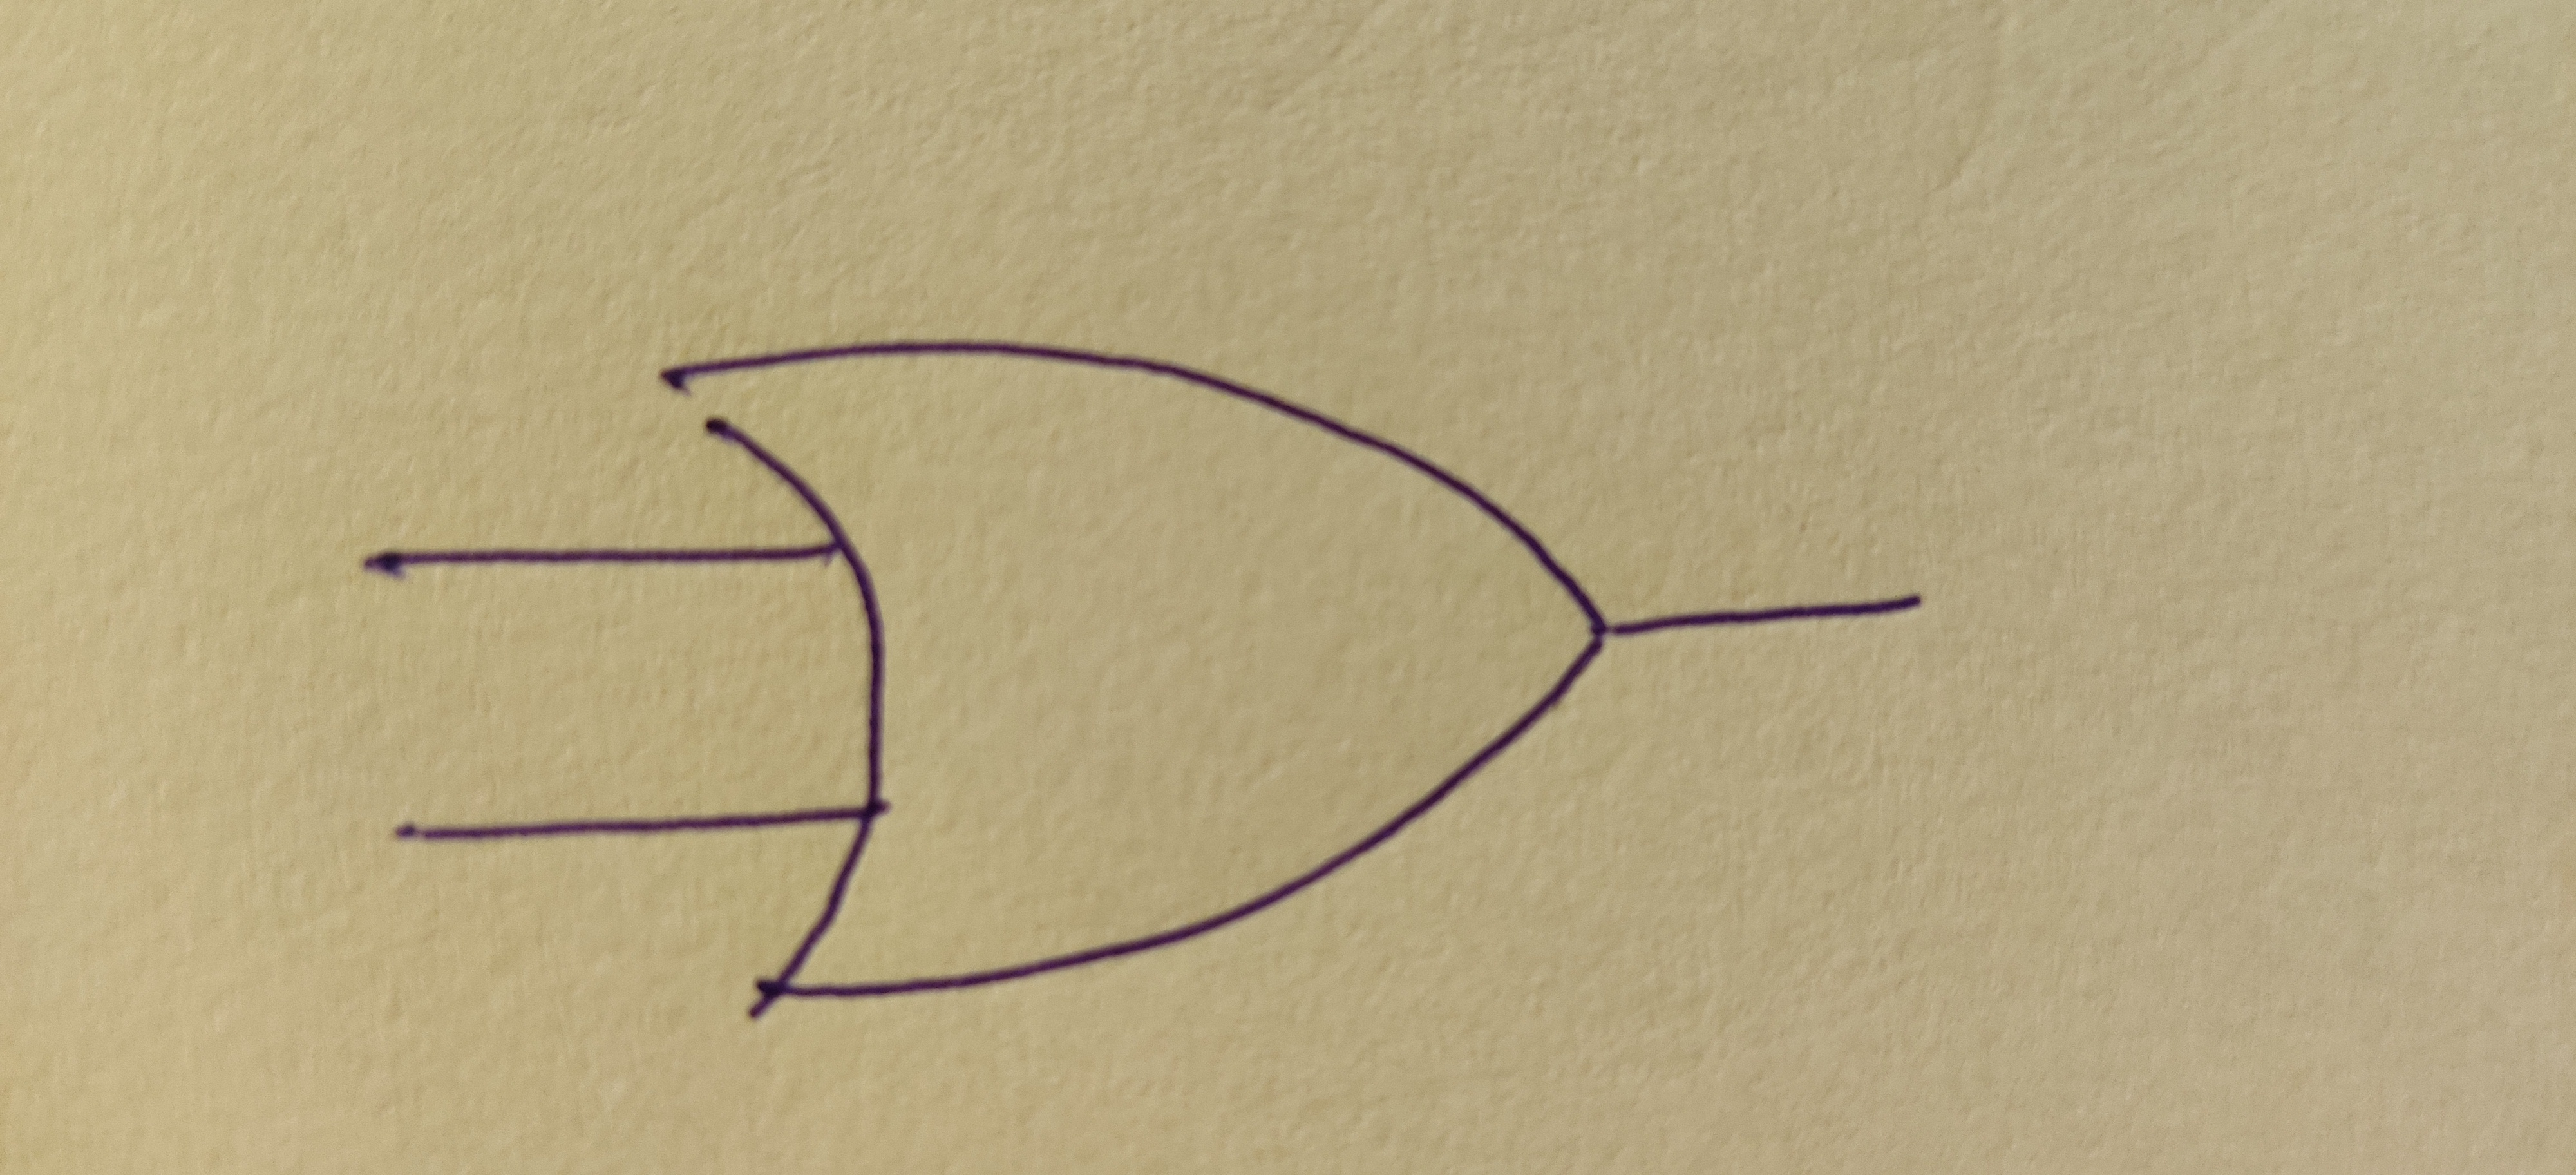or: (659, 340, 1605, 994)
